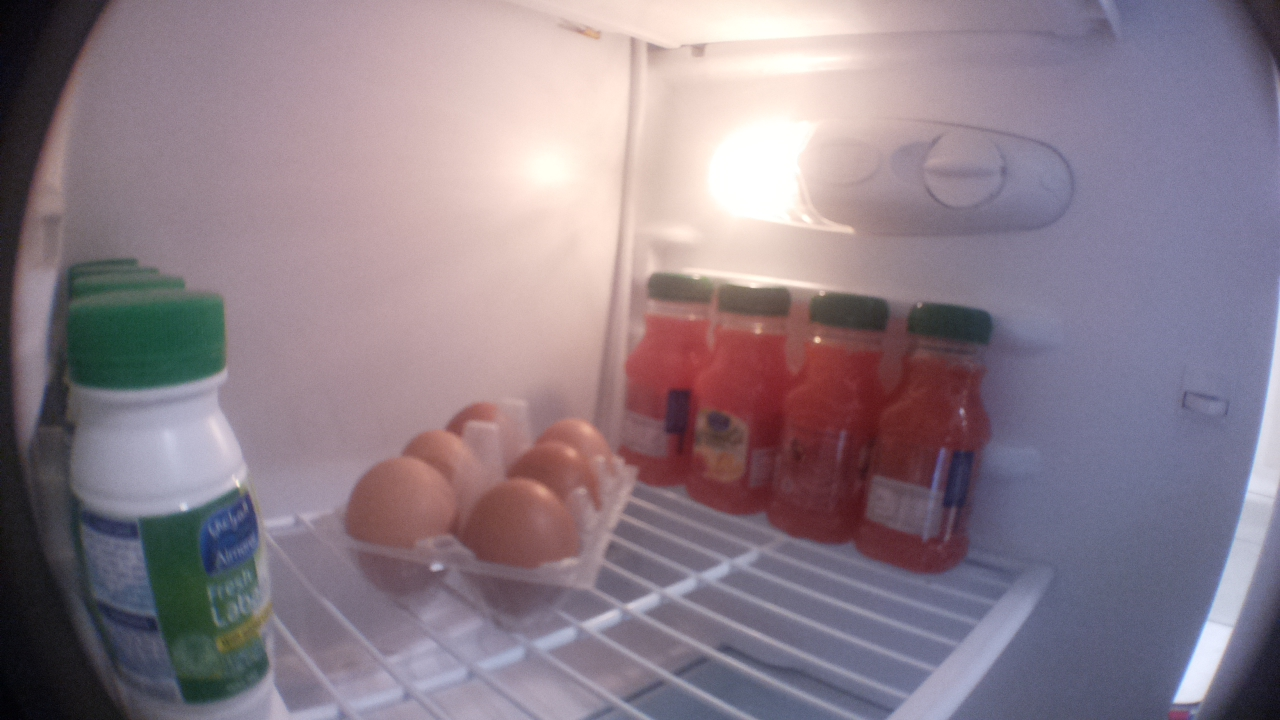egg: (341, 447, 459, 610), (455, 478, 578, 622), (398, 412, 492, 507), (497, 443, 602, 518), (440, 389, 533, 453), (526, 413, 615, 475)
juice: (872, 291, 996, 581), (777, 286, 881, 545), (689, 270, 785, 518), (625, 267, 700, 494)
laban: (60, 298, 290, 720), (64, 265, 189, 292), (65, 252, 166, 276)
